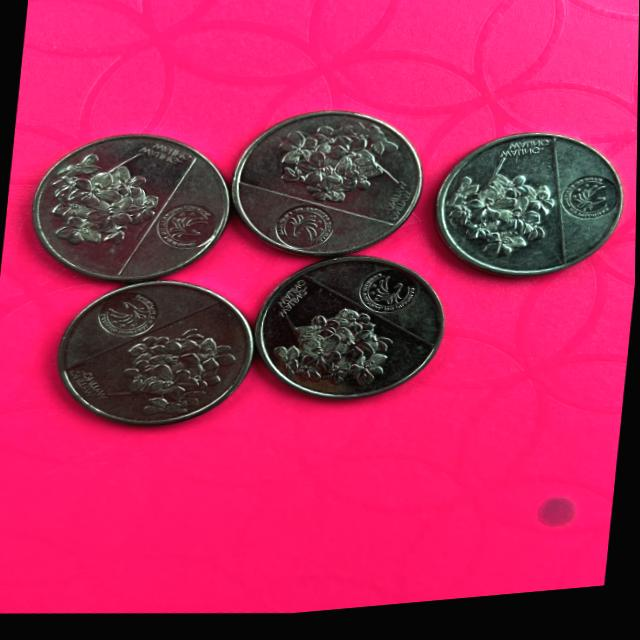1_New_Back: (34, 144, 162, 267), (438, 151, 559, 276), (96, 320, 234, 429), (261, 126, 409, 215), (265, 306, 383, 401)
